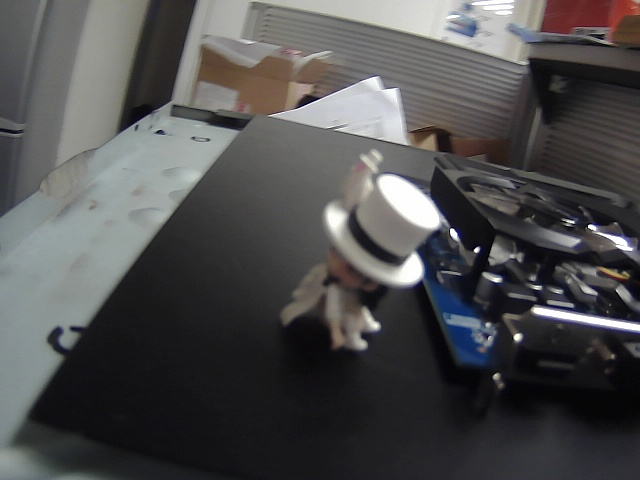lucci: (273, 146, 442, 375)
